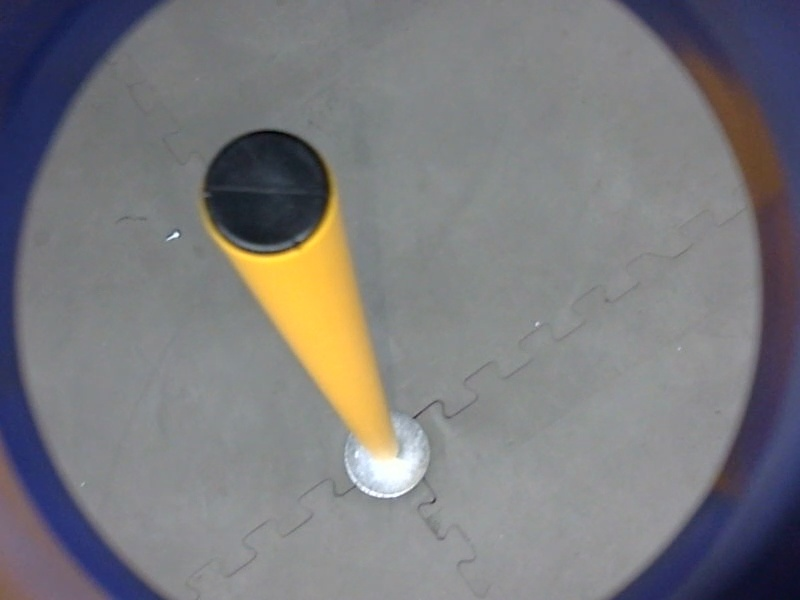tip: (193, 123, 342, 267)
